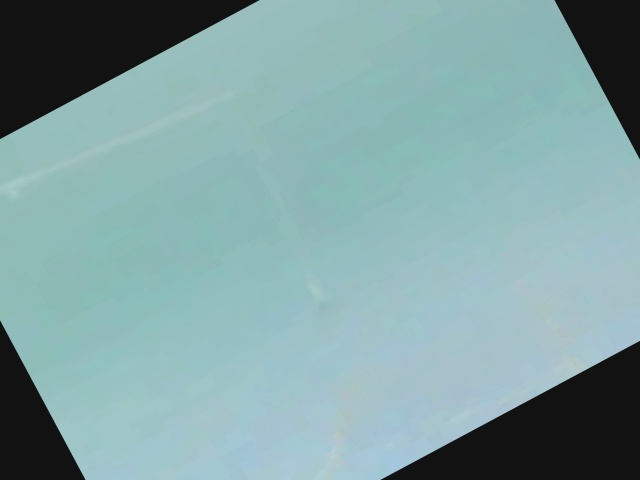gate: (0, 4, 361, 312)
